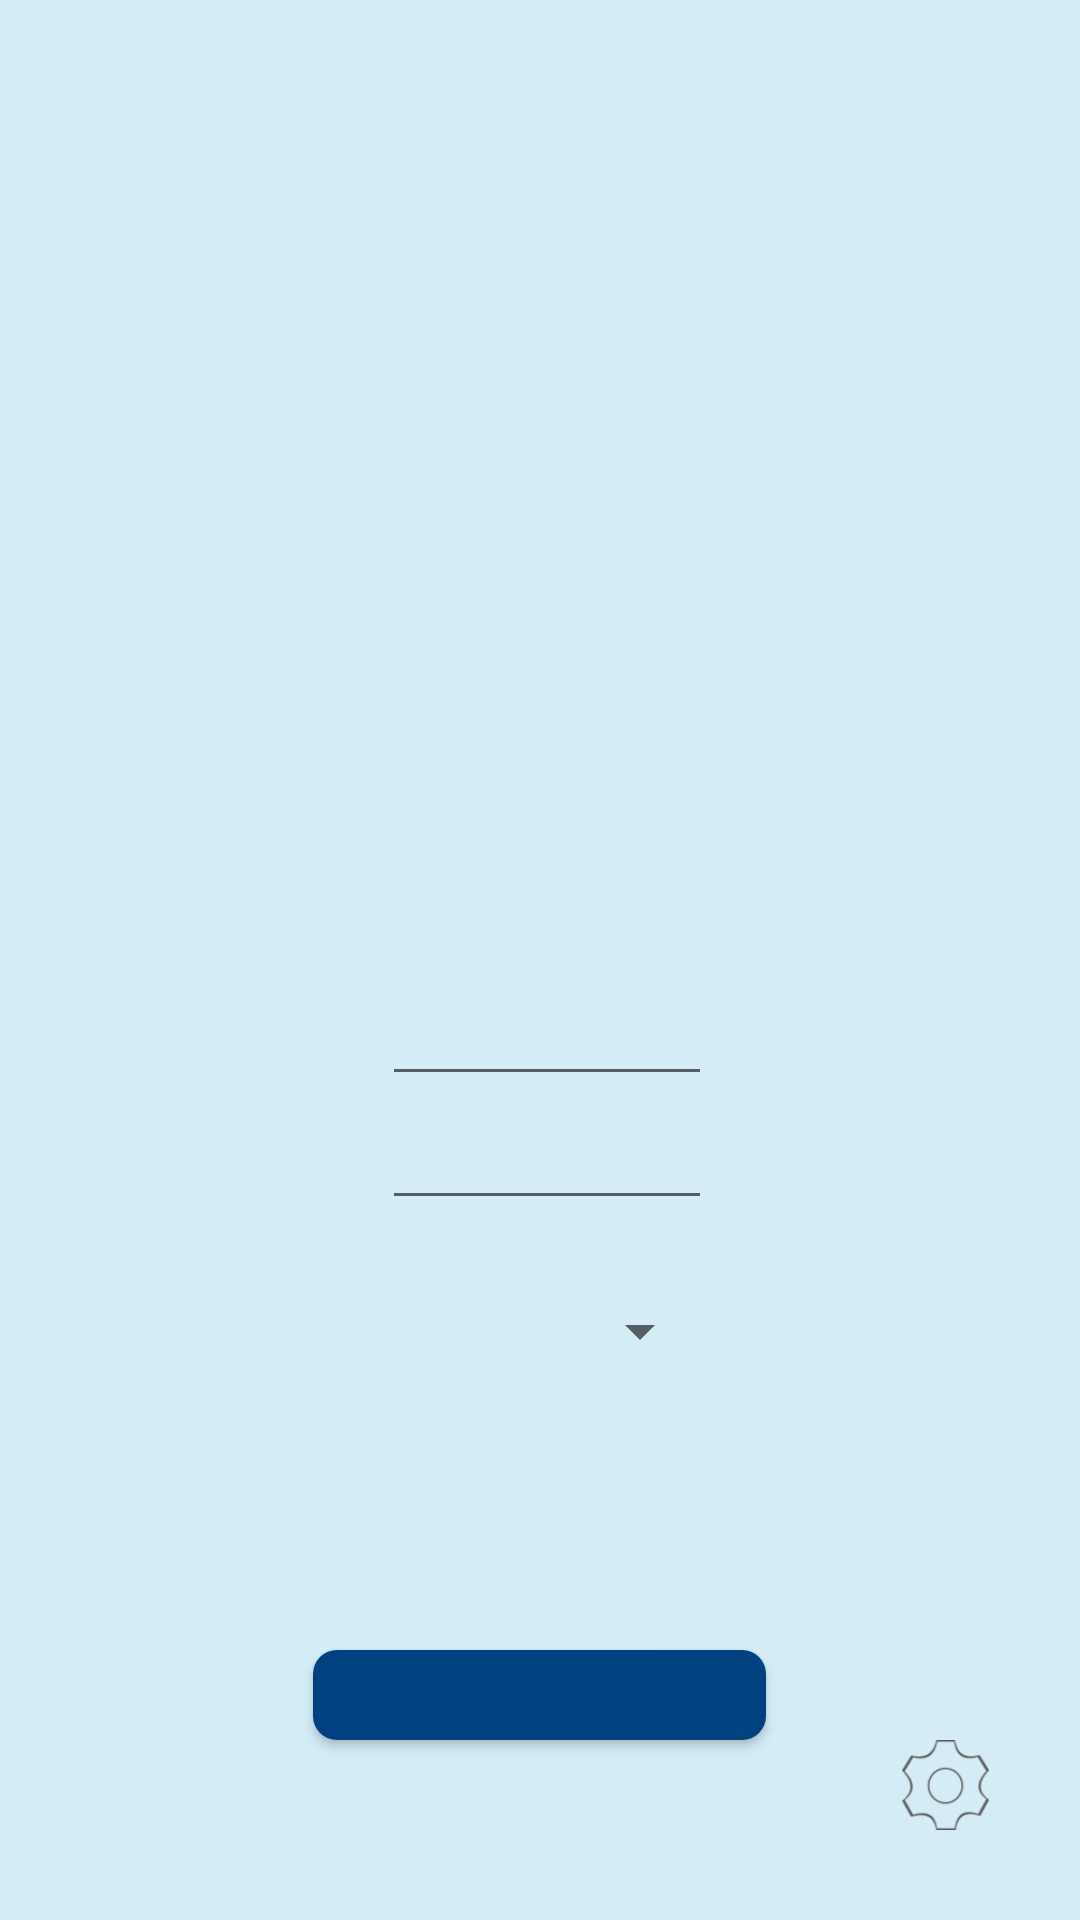

Icon bounding boxes for this 1080×1920 phone screenshot, format (x1,y1,x2,y2):
set: (902,1740,989,1830)
